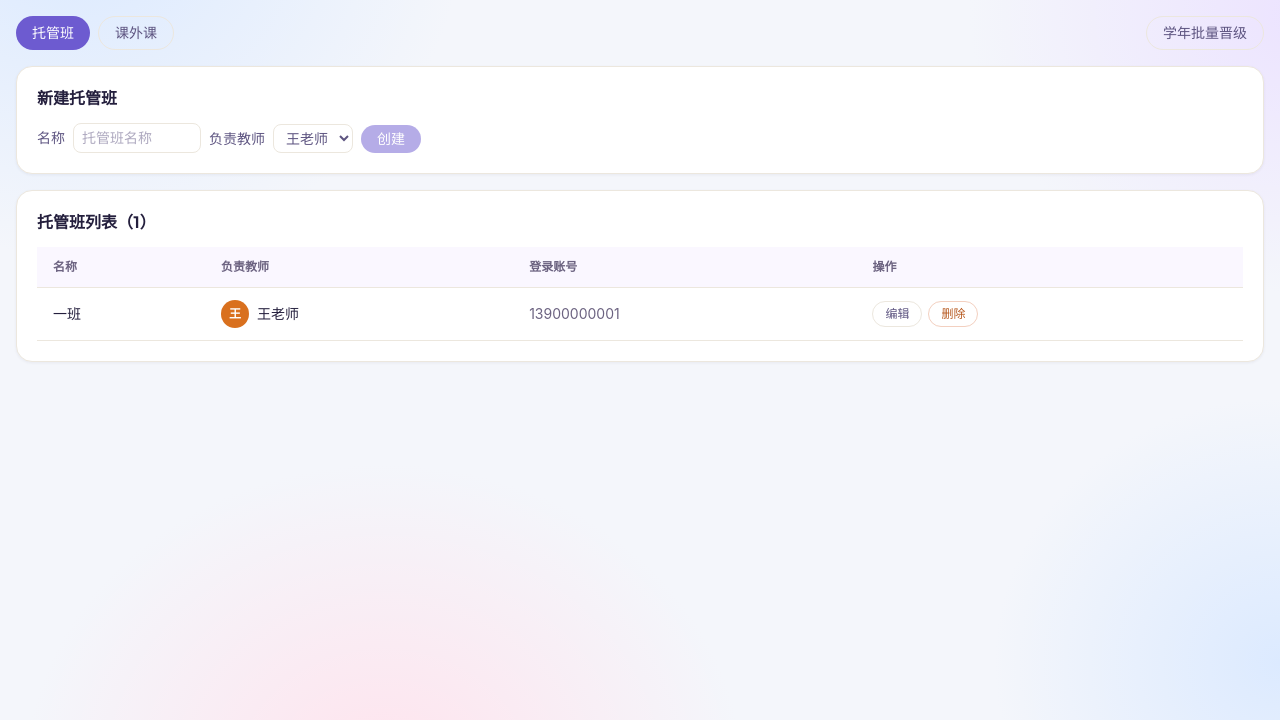
AdminTeachingUnitsModule › shows a duplicate-name message on 409 when creating
The width and height of the screenshot is (1280, 720).
Expected: the text "一班" is shown, [53,305,81,322]
Step 1. Type "一班" into the field with placeholder "托管班名称" → (137, 138), box [73,123,201,153]
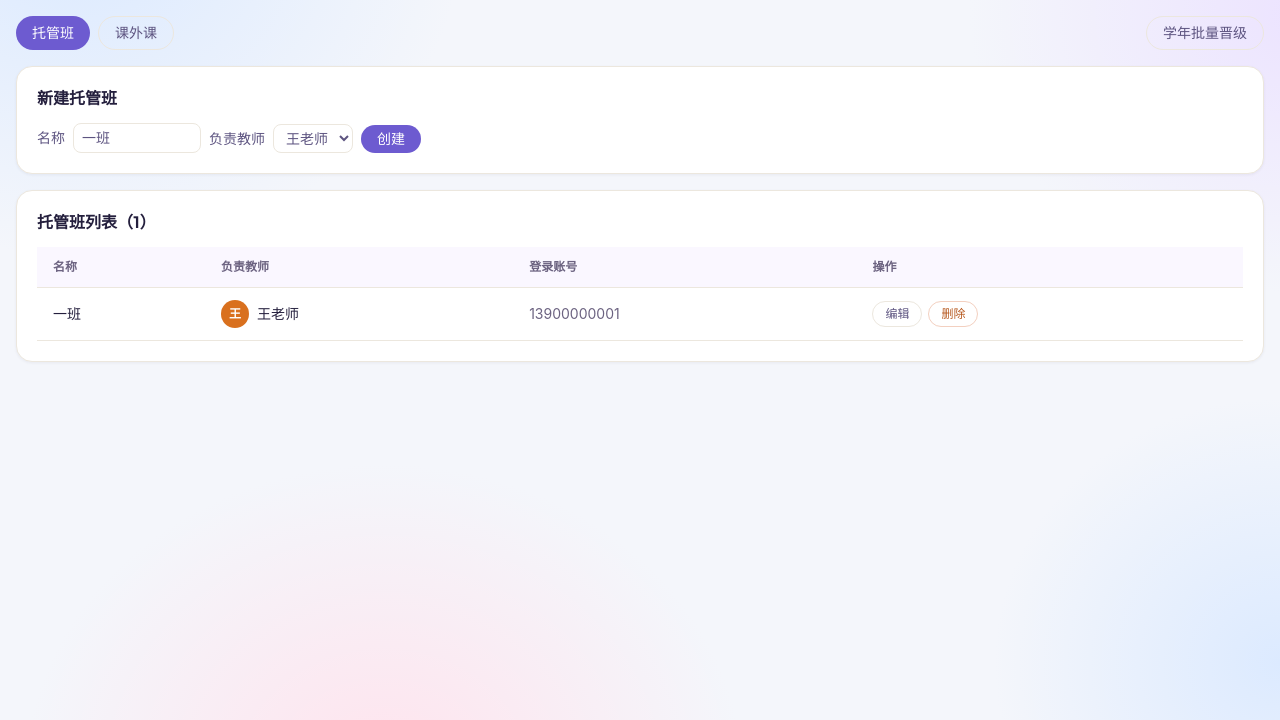
Step 2. Click the button "创建" → (391, 139), box [361,125,421,153]
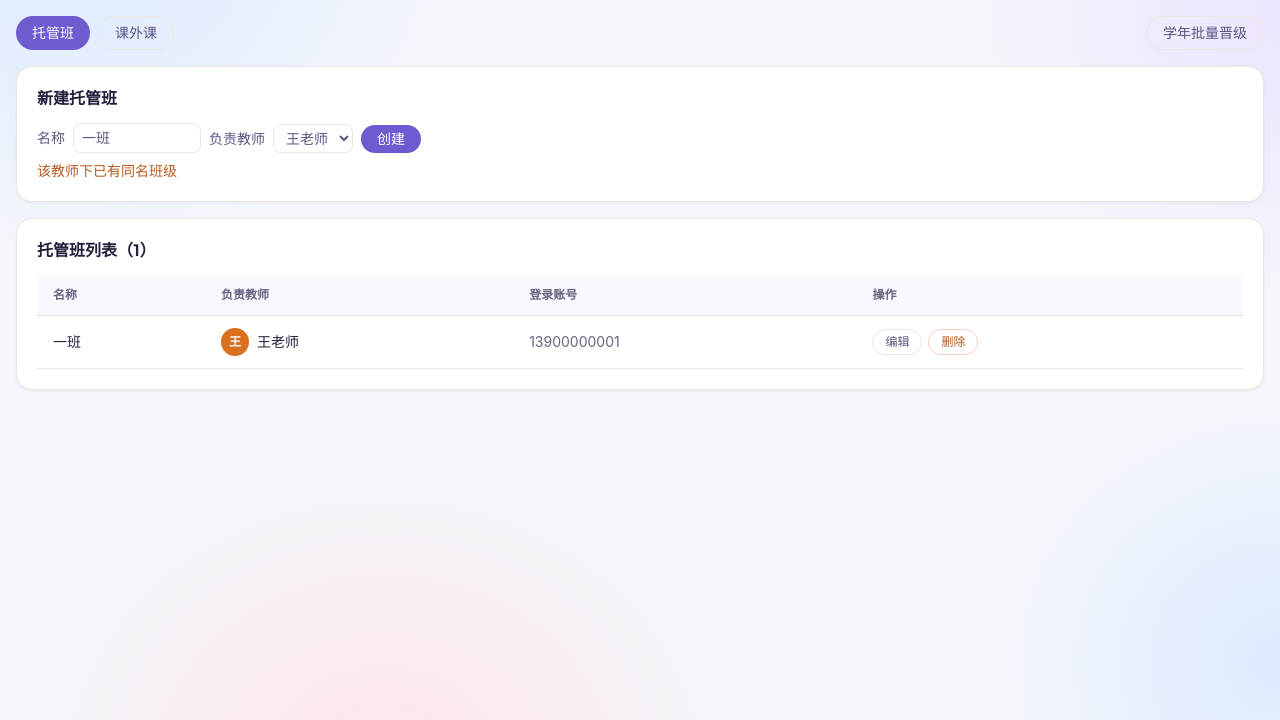
Result: the text "该教师下已有同名班级" is shown at [37,162,177,179]
